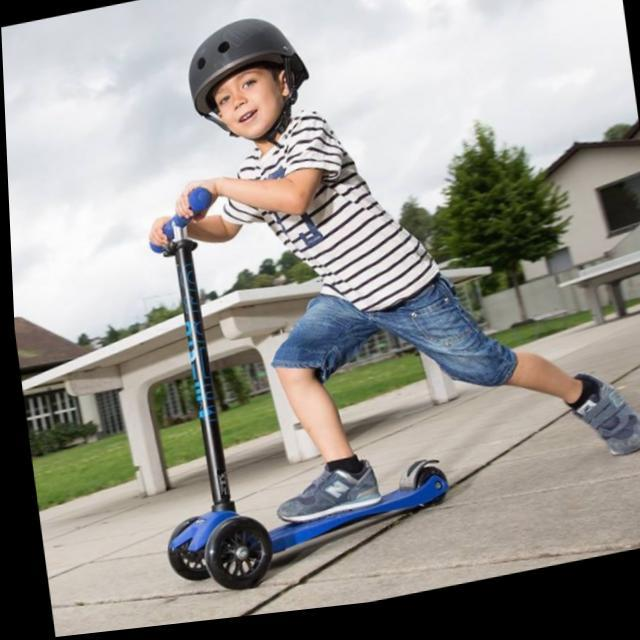Helmet: (183, 15, 311, 144)
